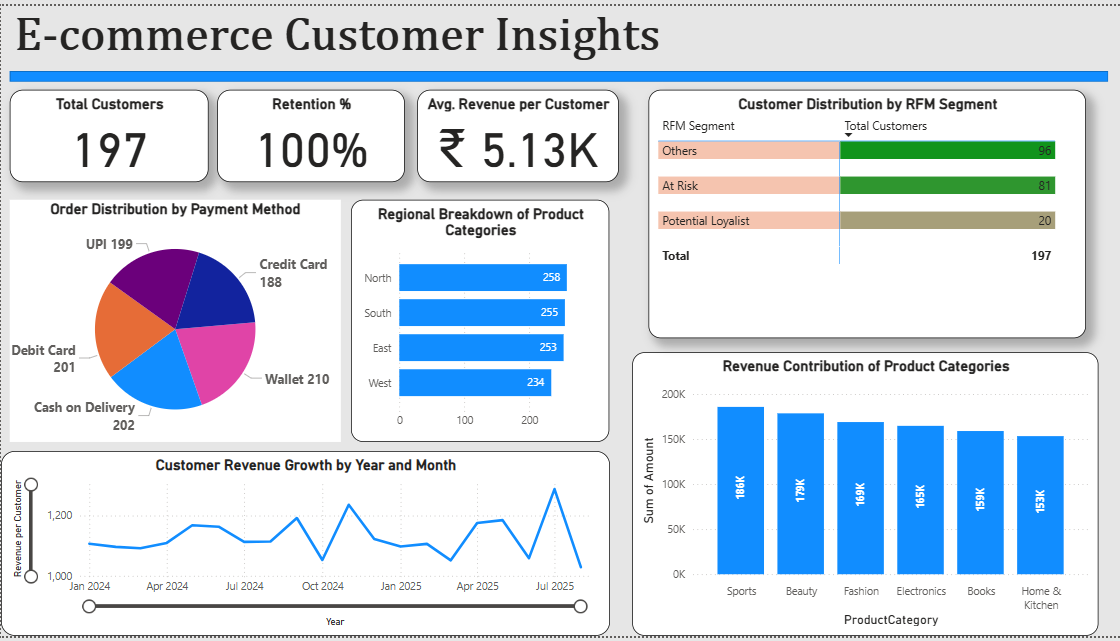

The page's visual inventory and layout, read from the dashboard file:
{"tool":"powerbi","page":{"name":"Page 1","canvas":[1280,720],"ordinal":0},"visuals":[{"type":"textbox","box":[9.6,0,758.8,74.1],"z":0},{"type":"shape","box":[9.6,74.1,1255.6,12.3],"z":1000},{"type":"card","title":"Total Customers","fields":{"Values":["Count(ecommerce_orders.CustomerID)"]},"box":[10,95.7,227.1,105.7],"z":2000},{"type":"card","title":"Retention %","fields":{"Values":["ecommerce_orders.Retention %"]},"box":[247.1,95.7,214.3,105.7],"z":3000},{"type":"pieChart","title":"Order Distribution by Payment Method","fields":{"Y":["CountNonNull(ecommerce_orders.OrderID)"],"Category":["ecommerce_orders.PaymentMethod"]},"box":[10,221.4,378.6,277.1],"z":4000},{"type":"barChart","title":"Regional Breakdown of Product Categories","fields":{"Category":["ecommerce_orders.Region"],"Y":["CountNonNull(ecommerce_orders.ProductCategory)"]},"box":[400,221.9,295.3,276.6],"z":5000},{"type":"card","title":"Avg. Revenue per Customer","fields":{"Values":["ecommerce_orders.Revenue per Customer"]},"box":[475.7,95.7,230,105.7],"z":6000},{"type":"lineChart","title":"Customer Revenue Growth by Year and Month","fields":{"Y":["ecommerce_orders.Revenue per Customer"],"Category":["ecommerce_orders.OrderDate.Variation.Date Hierarchy.Year","ecommerce_orders.OrderDate.Variation.Date Hierarchy.Month"]},"box":[0,508.6,695.7,211.4],"z":7000},{"type":"columnChart","title":"Revenue Contribution of Product Categories","fields":{"Category":["ecommerce_orders.ProductCategory"],"Y":["Sum(ecommerce_orders.Amount)"]},"box":[721.4,395.7,532.9,324.3],"z":8000},{"type":"pivotTable","title":"Customer Distribution by RFM Segment","fields":{"Rows":["ecommerce_orders.RFM Segment"],"Values":["ecommerce_orders.Total Customers"]},"box":[740,95.7,500,284.3],"z":10001}]}

Visuals, with their boxes in screenshot pixels (x1, y1, x2, y2), scaled from the page's 1280x720 canvas onto the 1120x641 screenshot:
textbox: BBox(8, 0, 672, 66)
shape: BBox(8, 66, 1107, 77)
"Total Customers" card: BBox(9, 85, 207, 179)
"Retention %" card: BBox(216, 85, 404, 179)
"Order Distribution by Payment Method" pieChart: BBox(9, 197, 340, 444)
"Regional Breakdown of Product Categories" barChart: BBox(350, 198, 608, 444)
"Avg. Revenue per Customer" card: BBox(416, 85, 617, 179)
"Customer Revenue Growth by Year and Month" lineChart: BBox(0, 453, 609, 640)
"Revenue Contribution of Product Categories" columnChart: BBox(631, 352, 1098, 640)
"Customer Distribution by RFM Segment" pivotTable: BBox(648, 85, 1085, 338)
